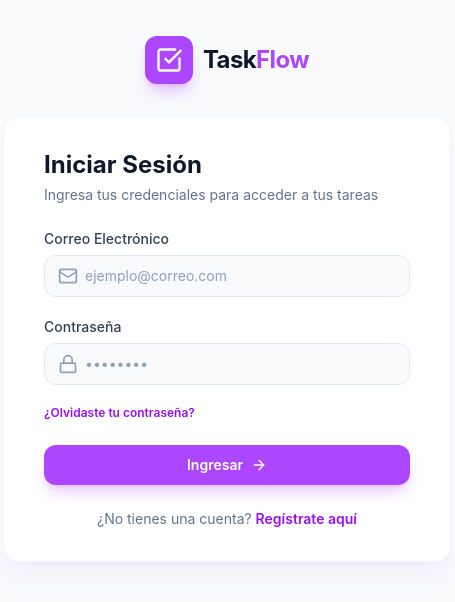
Scenario: Auth: Login (E2E) › should show errors if form is invalid
The width and height of the screenshot is (455, 602).
Click the submit button: {"x": 227, "y": 465} [44, 445, 410, 485]
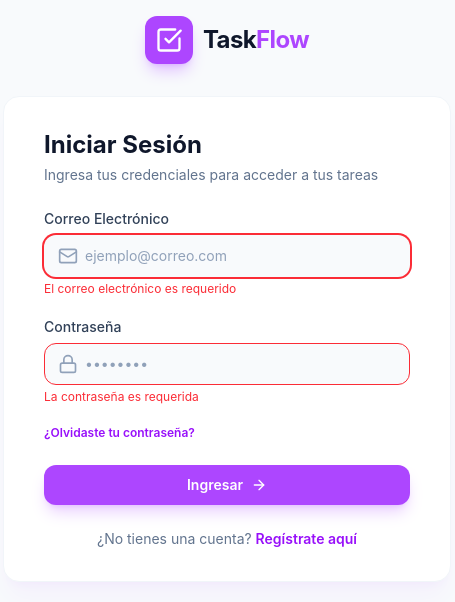
Now the text "El correo electrónico es requerido" is shown, box [44, 281, 236, 296]
Now the text "La contraseña es requerida" is shown, box [44, 389, 199, 404]
